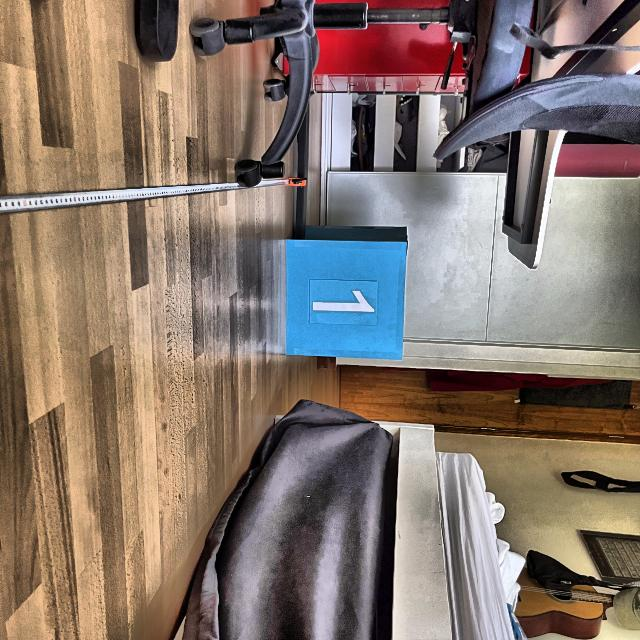blue box: (286, 224, 405, 360)
one: (312, 288, 376, 316)
